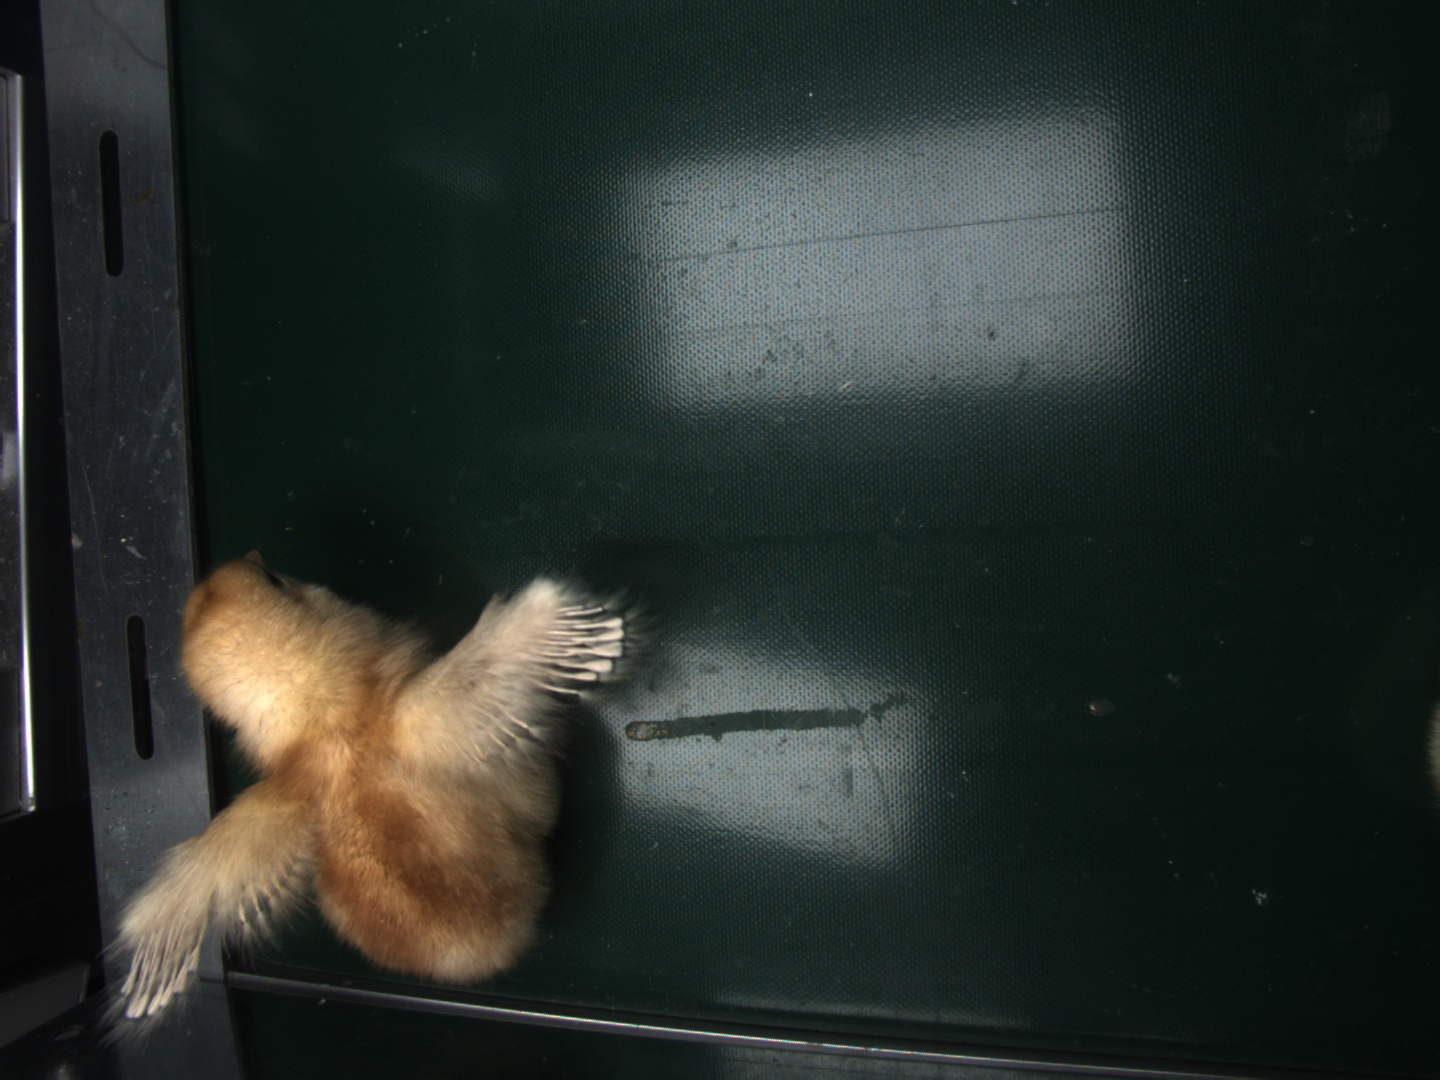female: (119, 923, 198, 1020), (539, 604, 622, 687)
